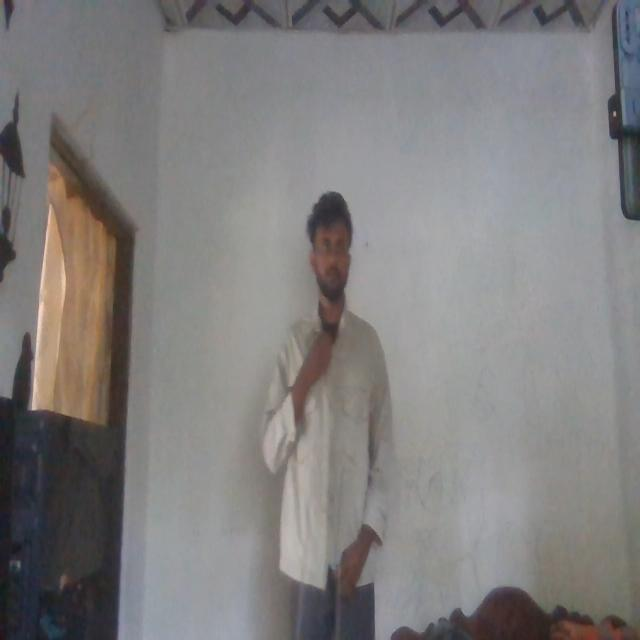Jacket_Wearer: (254, 306, 396, 581)
Person: (253, 177, 391, 640)
